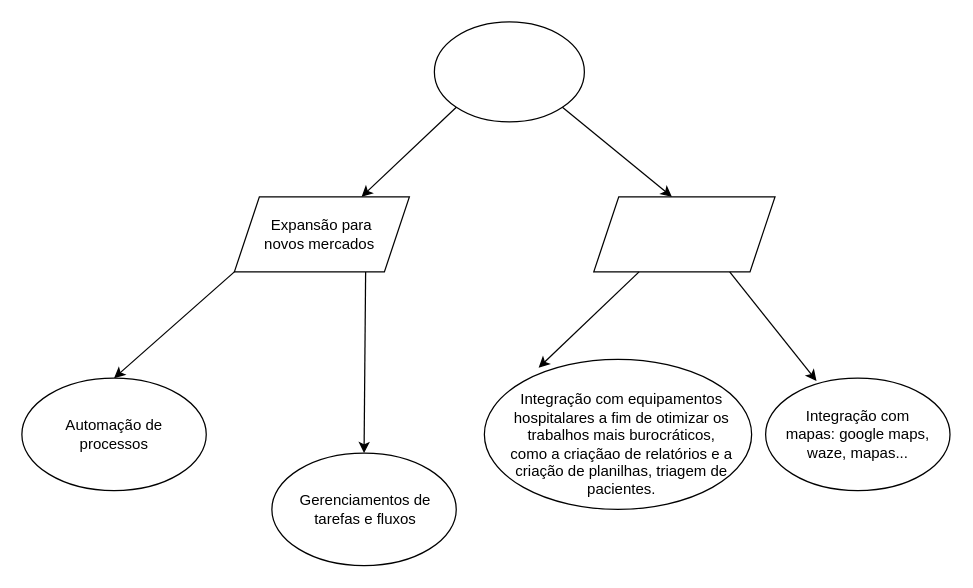
The diagram is 973 pixels wide and 588 high, and some of its shapes have lost their labels. The centre of each missing label's shape, as x and y in pixels:
"Integração com produtos do dia a dia" goes at (x=683, y=234).
"Oportinidades" goes at (x=508, y=71).
